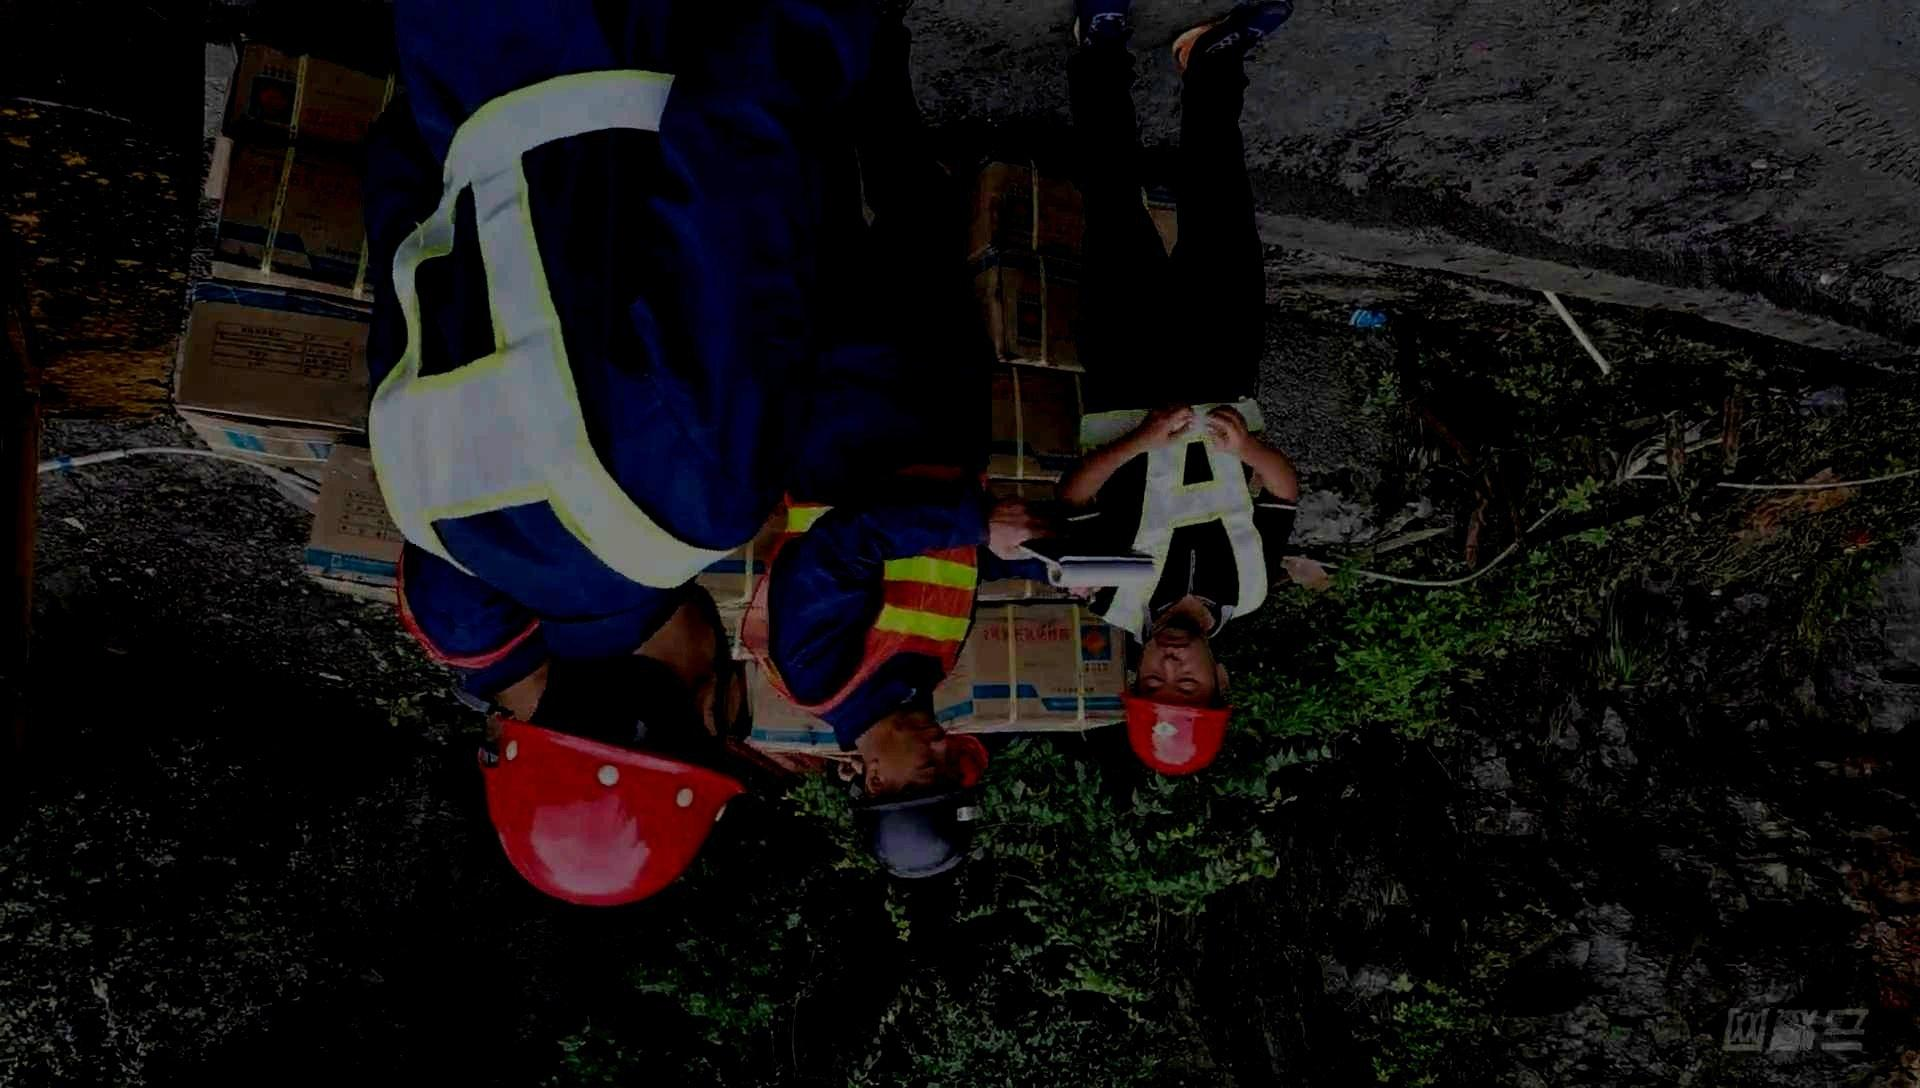helmet: (493, 582, 752, 907), (853, 713, 984, 877), (1117, 619, 1232, 774)
